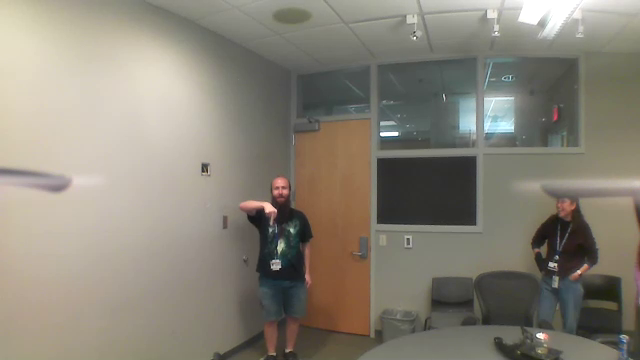down: (259, 197, 280, 228)
